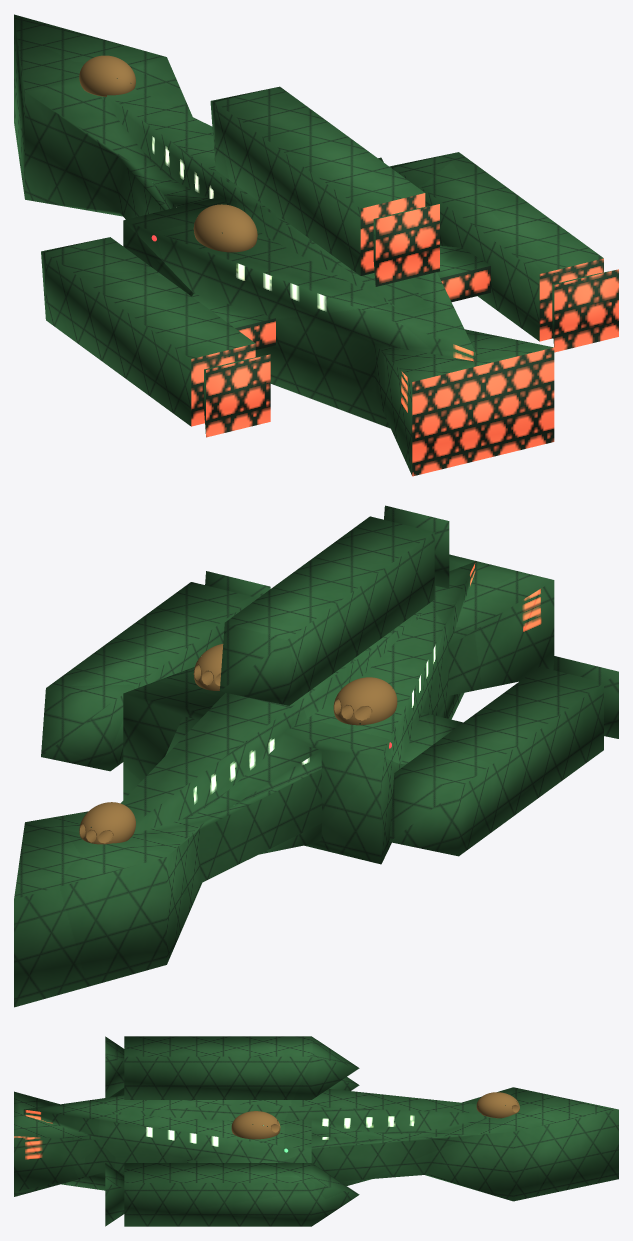
Rendered from krelath_heavy_cruiser.glb.
3 renders of one model, top to bottom at view 1: azimuth 30°, elevation 25°; view 2: azimuth 150°, elevation 25°; view 3: azimuth 270°, elevation 25°, orthographic. The views are drawn at different scales.
Parts seen in each view (by area): view 1: KrelathHeavyCruiser; view 2: KrelathHeavyCruiser; view 3: KrelathHeavyCruiser.
Boxes of the visible parts, x1,y1,x2,y2 form: KrelathHeavyCruiser: (14,14,618,476); KrelathHeavyCruiser: (14,505,618,1007); KrelathHeavyCruiser: (14,1036,618,1226).
Size of the model in its own units: 25.4 by 13.15 by 50.
Materials: 1 (1 with a texture image).
